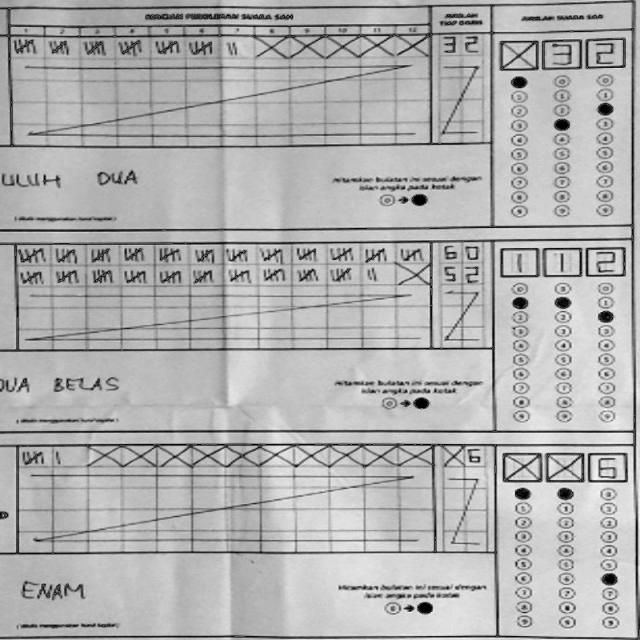Suara: (495, 33, 630, 73), (493, 442, 627, 482), (494, 445, 628, 485)
